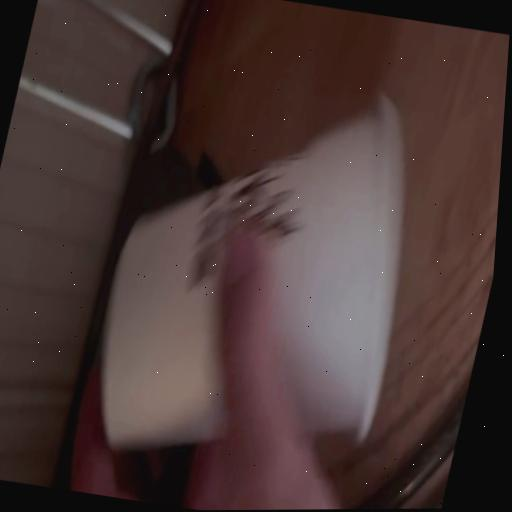Ly_giay: (102, 96, 403, 447)
